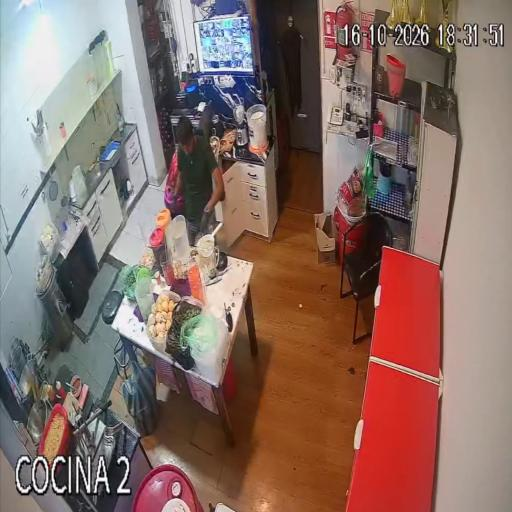Balde: (246, 104, 268, 152)
Envase Ketchup: (56, 381, 65, 400)
Envase Llajua: (70, 375, 82, 399)
Jarra1: (150, 228, 167, 275)
Jarra2: (135, 275, 154, 320)
Jarra3: (170, 215, 189, 264)
Jarra5: (70, 165, 87, 202), (155, 209, 171, 248)
JarraLicuadora: (196, 234, 219, 279)
Licuadora: (211, 115, 224, 139)
Licuadora2: (196, 223, 221, 257), (234, 105, 248, 146)
Microondas: (171, 106, 212, 144)
Persona1: (165, 152, 184, 216)
Persona3: (175, 117, 223, 244)
Taper2: (139, 247, 155, 271)
Taper3: (146, 290, 181, 354)
Taper4: (180, 296, 204, 312)
Taper5: (195, 311, 229, 386)
